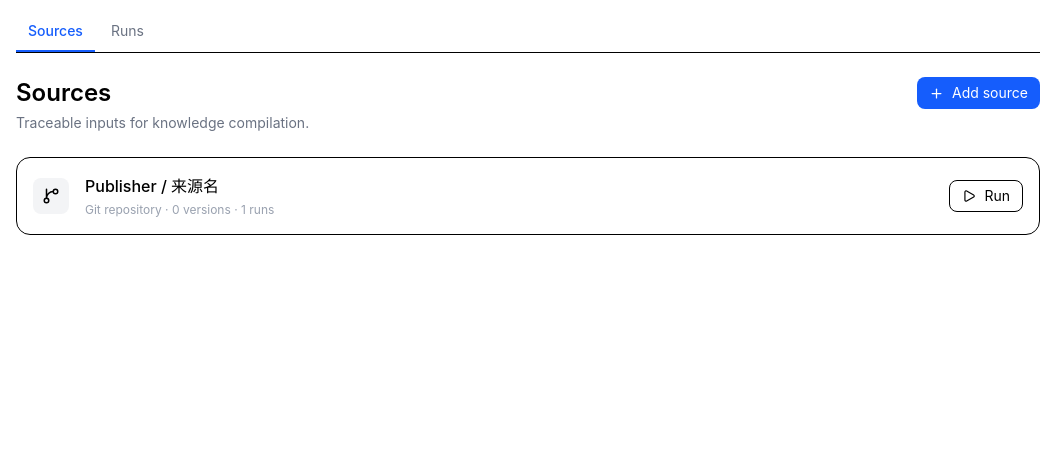
Test case: SourcesPage file upload › shows archived source status and publishing run status in en
This screenshot has width=1057, height=456.
Click the button "Publisher / 来源名 Git repository · 0 versions · 1 runs": (152, 186) top-left (85, 174), bottom-right (933, 218)
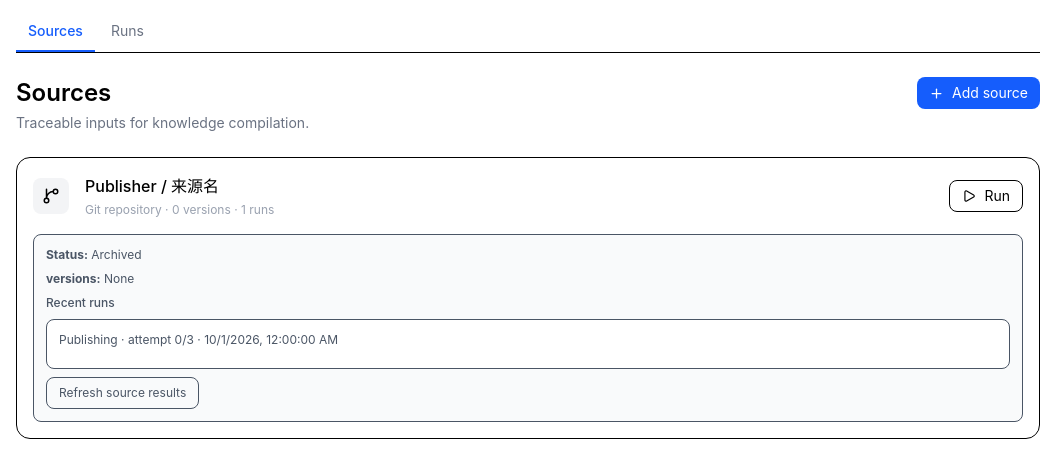
Expected: the text "Publisher / 来源名" is shown, top-left (85, 176), bottom-right (219, 196)
Expected: the text "Archived" is shown, top-left (91, 247), bottom-right (142, 262)
Expected: the text "Publishing" is shown, top-left (59, 332), bottom-right (118, 347)
